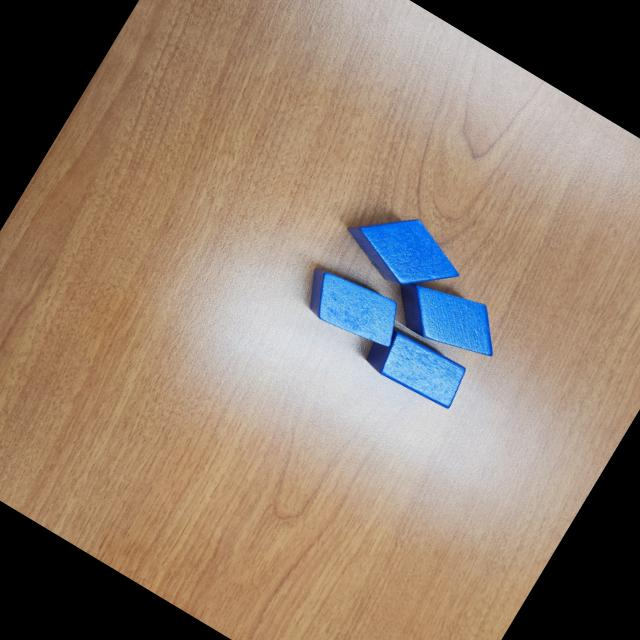blue: (334, 192, 474, 312), (384, 262, 514, 374), (293, 256, 412, 358), (360, 320, 474, 414)
